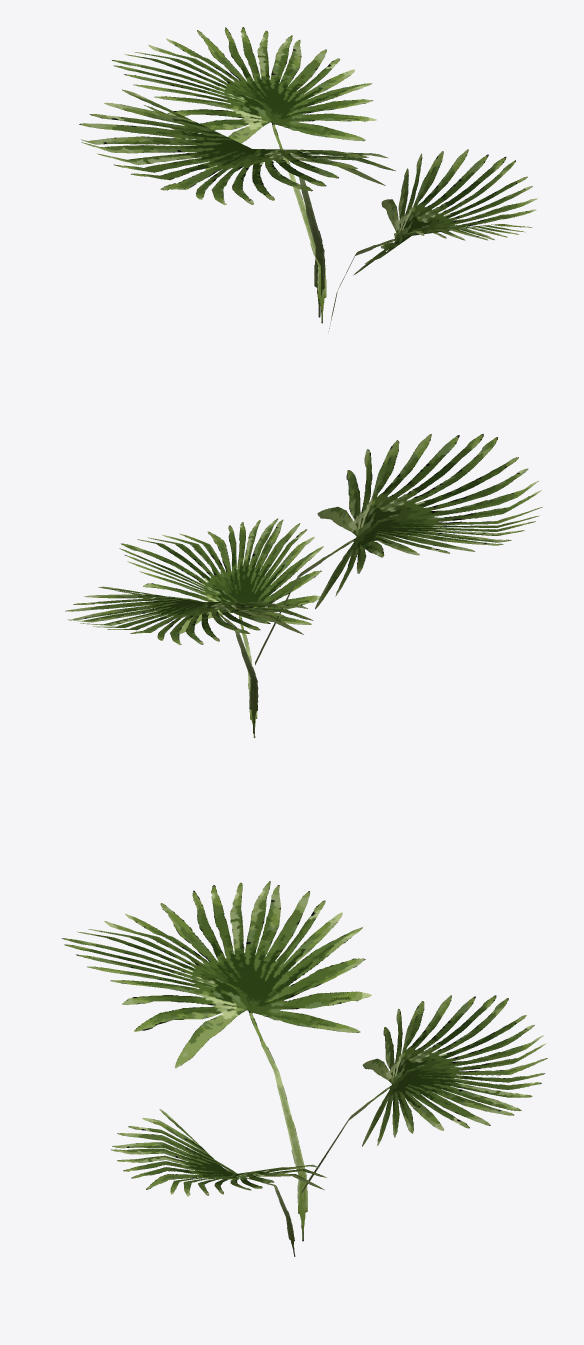
Rendered from TreeSmall2.fbx.
3 views of the same model, one above another, from view 1: azimuth 30°, elevation 25°; view 2: azimuth 150°, elevation 25°; view 3: azimuth 270°, elevation 25° (orthographic). The views are drawn at different scales.
Visible parts, largest first — view 1: TreeSmall2; view 2: TreeSmall2; view 3: TreeSmall2.
Boxes of the visible parts, x1=… form: TreeSmall2: x1=79, y1=27, x2=537, y2=331; TreeSmall2: x1=65, y1=434, x2=542, y2=737; TreeSmall2: x1=62, y1=881, x2=547, y2=1256.
Bounding box in the file's own units: 346 × 181 × 328.
